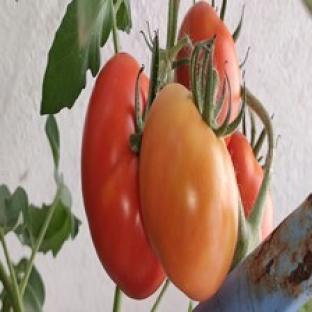Tomato: (140, 84, 238, 300), (81, 53, 164, 299), (179, 2, 240, 122), (228, 133, 263, 217)
